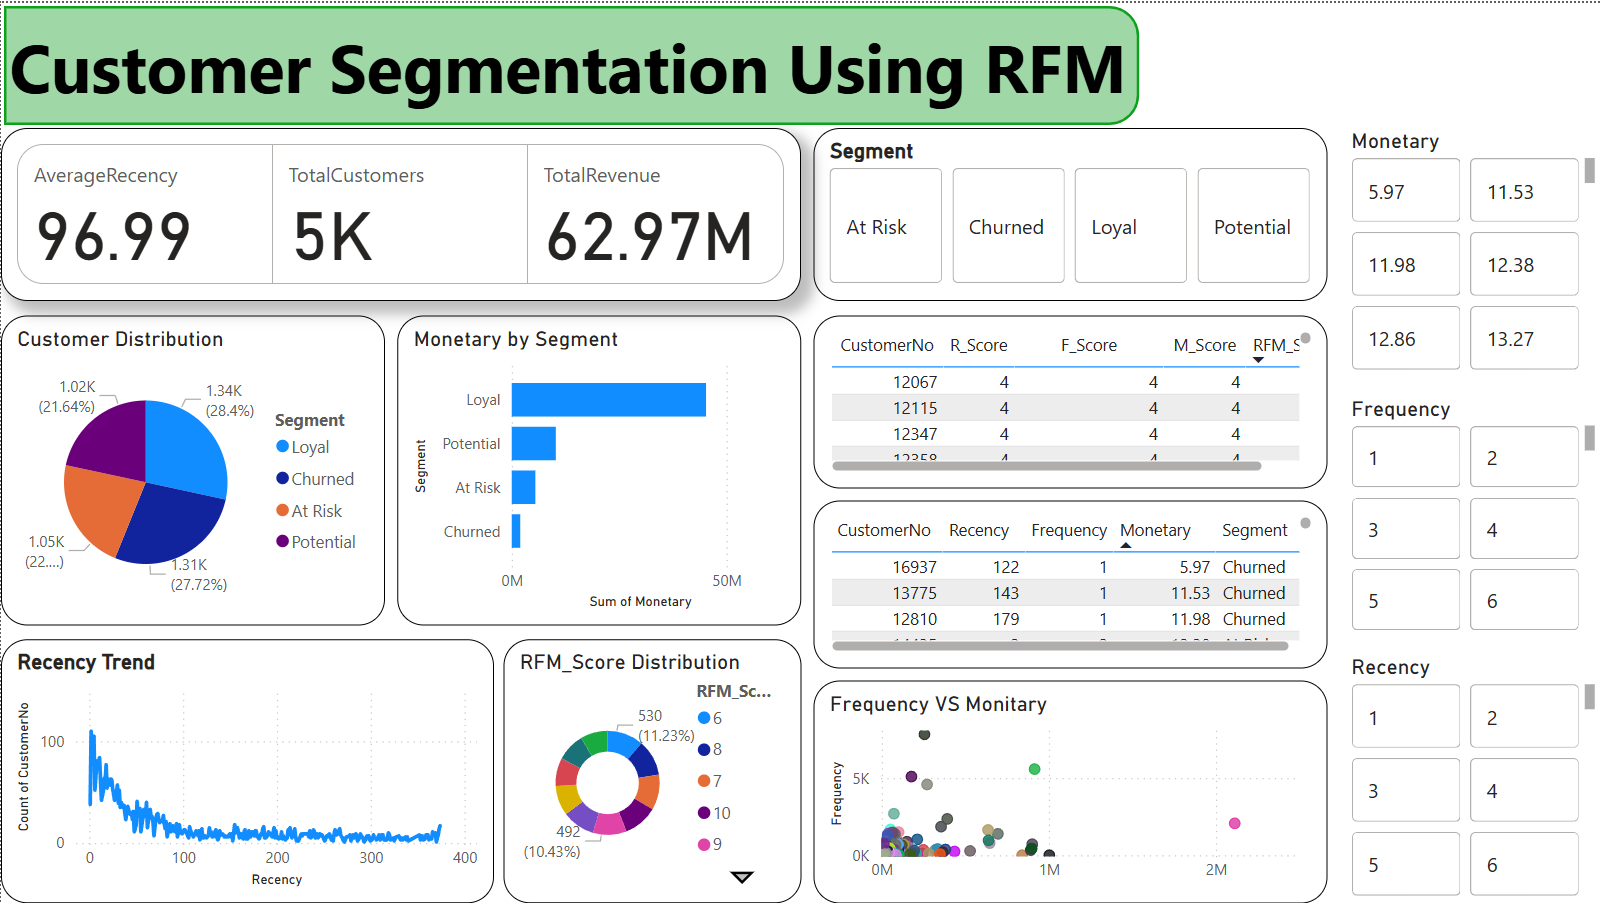

This screenshot's page, from the dashboard's own definition file:
{"tool":"powerbi","page":{"name":"Page 1","canvas":[1280,720],"ordinal":0},"visuals":[{"type":"pieChart","title":"Customer Distribution","fields":{"Category":["RFM_results.Segment"],"Y":["CountNonNull(RFM_results.CustomerNo)"]},"box":[0,250,307,248],"z":0},{"type":"clusteredBarChart","title":"Monetary by Segment","fields":{"Category":["RFM_results.Segment"],"Y":["Sum(RFM_results.Monetary)"]},"box":[317,250,323,248],"z":1000},{"type":"tableEx","fields":{"Values":["RFM_results.CustomerNo","RFM_results.Recency","RFM_results.Frequency","RFM_results.Monetary","RFM_results.Segment"]},"box":[650,397.8,411.1,134.4],"z":2000},{"type":"advancedSlicerVisual","fields":{"Values":["RFM_results.Segment"]},"box":[650,100,411.1,137.8],"z":3000},{"type":"cardVisual","fields":{"Data":["RFM_results.AverageRecency","RFM_results.TotalCustomers","RFM_results.TotalRevenue"]},"box":[0,100,640,137.8],"z":4000},{"type":"advancedSlicerVisual","fields":{"Values":["RFM_results.Recency"]},"box":[1075,521.2,205,198.8],"z":5000},{"type":"advancedSlicerVisual","fields":{"Values":["RFM_results.Frequency"]},"box":[1075,313.8,205,195],"z":6000},{"type":"advancedSlicerVisual","fields":{"Values":["RFM_results.Monetary"]},"box":[1075,100,205,198.8],"z":7000},{"type":"tableEx","fields":{"Values":["RFM_results.CustomerNo","RFM_results.R_Score","RFM_results.F_Score","RFM_results.M_Score","RFM_results.RFM_Score"]},"box":[650,250,411.1,137.8],"z":8000},{"type":"shape","box":[0,0,912.8,100],"z":9000},{"type":"lineChart","title":"Recency Trend","fields":{"Category":["RFM_results.Recency"],"Y":["CountNonNull(RFM_results.CustomerNo)"]},"box":[0,509,394,211],"z":10000},{"type":"donutChart","title":"RFM_Score Distribution","fields":{"Category":["RFM_results.RFM_Score"],"Y":["CountNonNull(RFM_results.CustomerNo)"]},"box":[402,509,238,211],"z":11000},{"type":"scatterChart","title":"Frequency VS Monitary","fields":{"X":["Sum(RFM_results.Monetary)"],"Y":["RFM_results.Frequency"],"Series":["RFM_results.CustomerNo"]},"box":[650,542.2,411.1,177.8],"z":12000}]}

Visuals, with their boxes in screenshot pixels (x1, y1, x2, y2), scaled from the page's 1280x720 canvas onto the 1601x903 screenshot:
"Customer Distribution" pieChart: 0:314:384:625
"Monetary by Segment" clusteredBarChart: 396:314:800:625
tableEx - RFM_results.CustomerNo x RFM_results.Recency: 813:499:1327:667
advancedSlicerVisual - RFM_results.Segment: 813:125:1327:298
cardVisual - RFM_results.AverageRecency x RFM_results.TotalCustomers: 0:125:800:298
advancedSlicerVisual - RFM_results.Recency: 1345:654:1600:902
advancedSlicerVisual - RFM_results.Frequency: 1345:394:1600:638
advancedSlicerVisual - RFM_results.Monetary: 1345:125:1600:375
tableEx - RFM_results.CustomerNo x RFM_results.R_Score: 813:314:1327:486
shape: 0:0:1142:125
"Recency Trend" lineChart: 0:638:493:902
"RFM_Score Distribution" donutChart: 503:638:800:902
"Frequency VS Monitary" scatterChart: 813:680:1327:902
